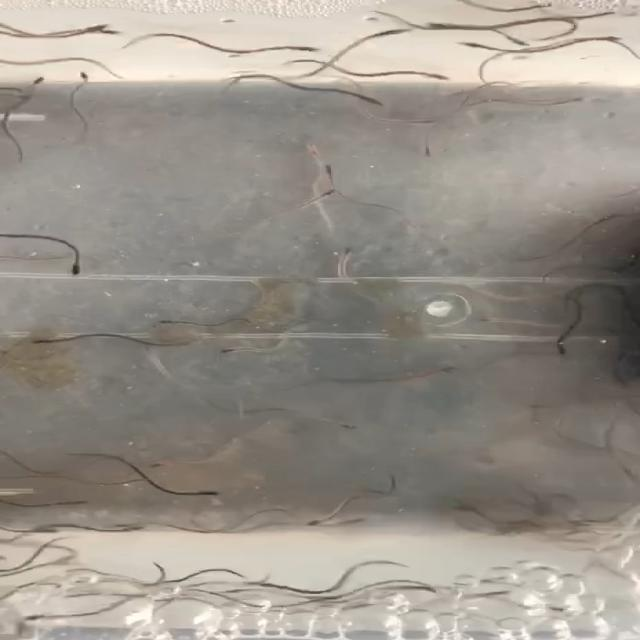active_glass_eel: (57, 488, 96, 512), (281, 35, 327, 55), (147, 308, 198, 326), (468, 306, 506, 330), (549, 338, 584, 363), (326, 418, 370, 437), (304, 510, 336, 536), (182, 482, 221, 503), (26, 608, 61, 629), (420, 146, 456, 166), (235, 573, 277, 590), (324, 240, 371, 255), (15, 331, 58, 346), (64, 261, 89, 286), (415, 116, 449, 134), (308, 164, 342, 182), (83, 23, 128, 36), (420, 360, 455, 376), (350, 92, 388, 106), (305, 136, 330, 157), (20, 70, 49, 88), (426, 69, 457, 85), (309, 185, 338, 202), (120, 521, 152, 535), (457, 39, 483, 55), (564, 95, 594, 108), (74, 68, 100, 83), (214, 342, 240, 357)
